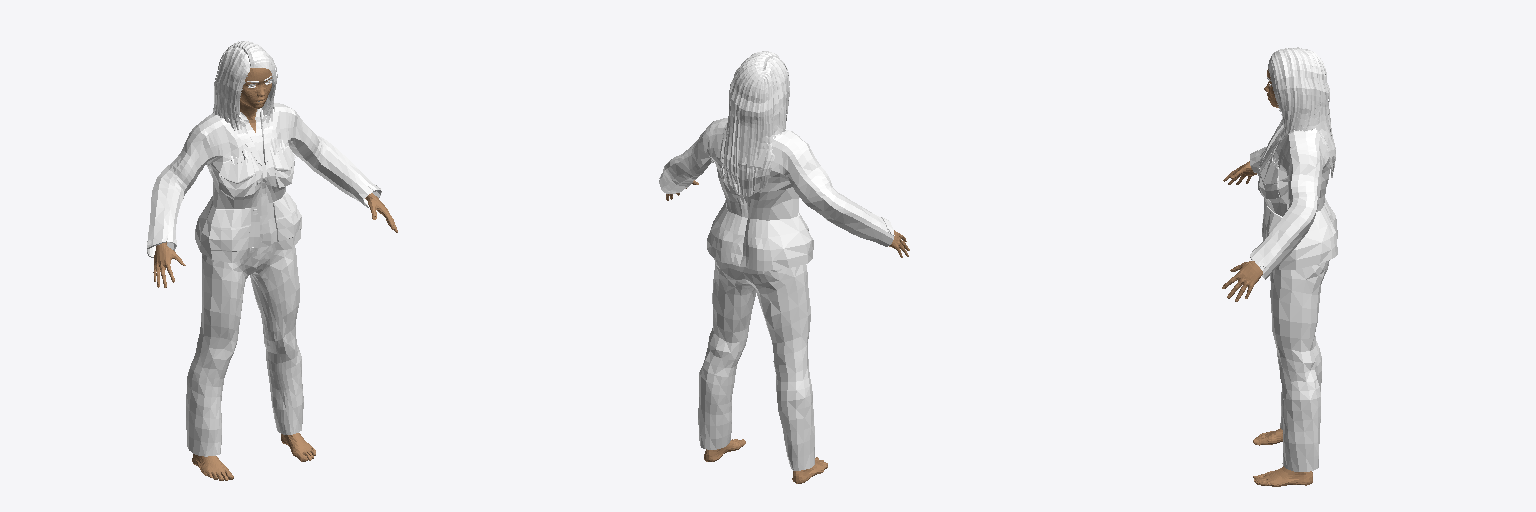
The model's file is girl1.obj.
3 renders of one model, left to right at view 1: azimuth 30°, elevation 25°; view 2: azimuth 150°, elevation 25°; view 3: azimuth 270°, elevation 25°, orthographic.
Parts seen in each view (by area): view 1: jacket01.obj, jeans01.obj, base.obj, fhair01.obj, shirt01.obj; view 2: jacket01.obj, jeans01.obj, fhair01.obj, base.obj; view 3: jacket01.obj, jeans01.obj, fhair01.obj, base.obj.
Part boxes in pixels (x1,y1,x2,y2): jacket01.obj: (147, 103, 381, 262); jeans01.obj: (186, 241, 303, 456); base.obj: (153, 68, 397, 480); fhair01.obj: (213, 41, 287, 164); shirt01.obj: (156, 108, 281, 245); jacket01.obj: (659, 118, 894, 270); jeans01.obj: (698, 258, 814, 470); fhair01.obj: (720, 51, 789, 196); base.obj: (666, 180, 909, 483); jacket01.obj: (1250, 119, 1337, 279); jeans01.obj: (1270, 260, 1329, 471); fhair01.obj: (1267, 47, 1335, 177); base.obj: (1222, 69, 1312, 486).
Size of the model in its own units: 9.09 by 15.04 by 3.82.